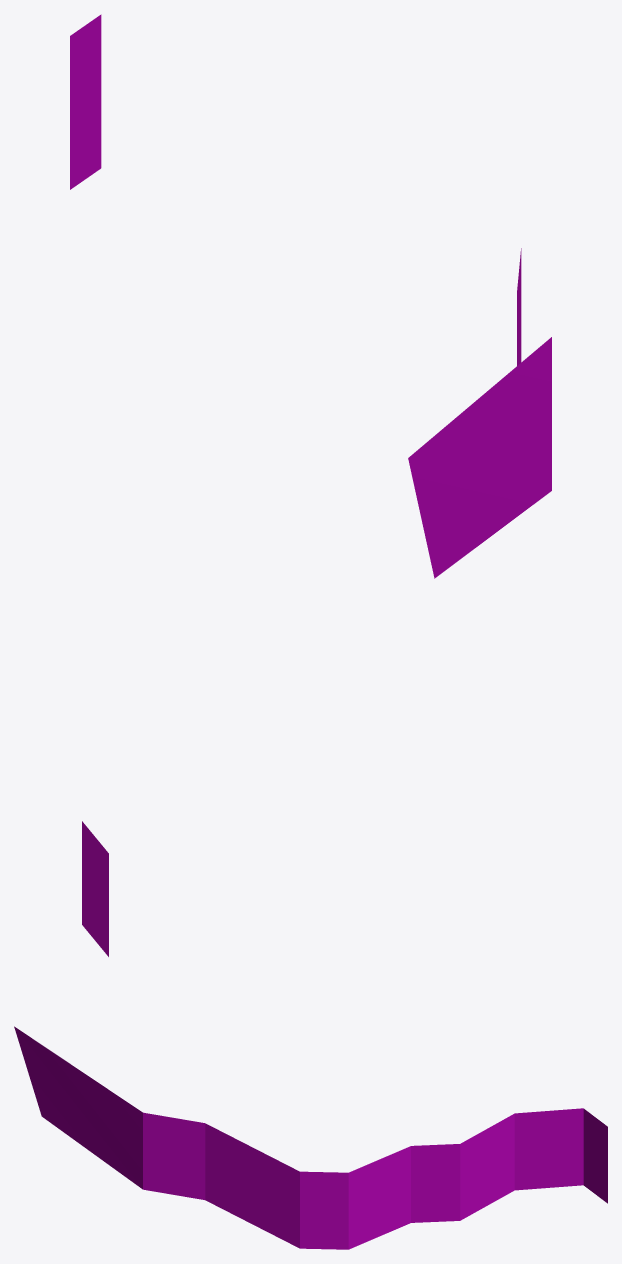
The model's file is M9_Zone1_CliffPoly4.glb.
3 renders of one model, top to bottom at view 1: azimuth 30°, elevation 25°; view 2: azimuth 150°, elevation 25°; view 3: azimuth 270°, elevation 25°, orthographic. The views are drawn at different scales.
Visible parts, largest first — view 1: M9_ZONE1_CLIFFPOLY4; view 2: M9_ZONE1_CLIFFPOLY4; view 3: M9_ZONE1_CLIFFPOLY4.
Part boxes in pixels (x1,y1,x2,y2): M9_ZONE1_CLIFFPOLY4: [70, 14, 551, 578]; M9_ZONE1_CLIFFPOLY4: [82, 821, 108, 956]; M9_ZONE1_CLIFFPOLY4: [14, 1026, 607, 1249].
Bounding box in the file's own units: 34.33 × 20.29 × 87.34.
